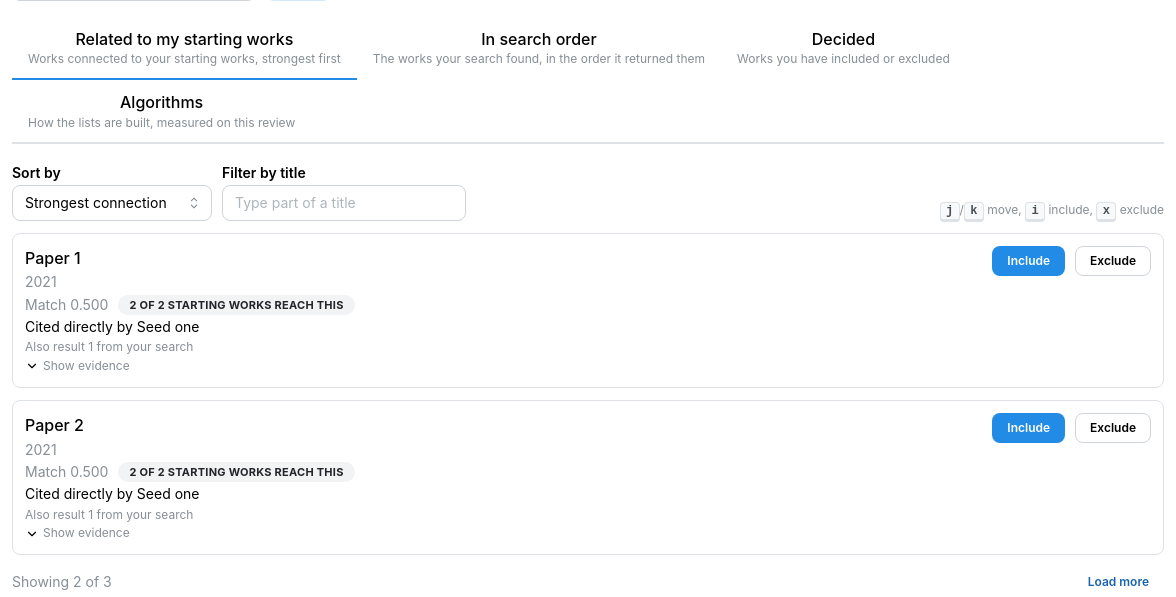
Test: ReviewScreen › loads more rows from a long list
This screenshot has width=1176, height=597.
(page scrolled)
Check: the text "Showing 2 of 3" is shown, box [12,572,112,592]
Check: the text "Paper 3" is not shown
Click the button "Load more" at (1118, 582), box [1073,567,1164,596]
(page scrolled)
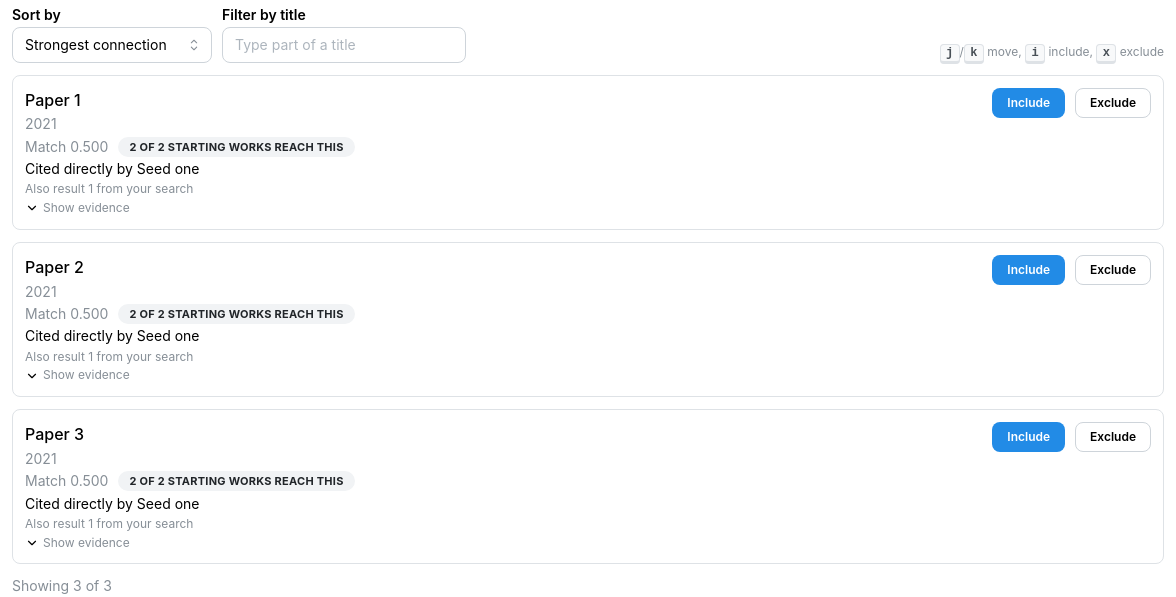
Check: the text "Paper 3" is shown, box [25,424,84,444]
Check: the text "Showing 3 of 3" is shown, box [12,576,112,596]
